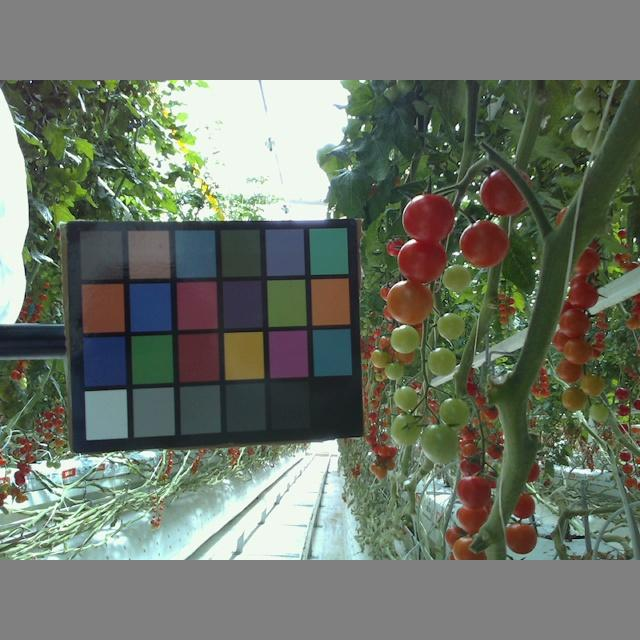green: (421, 423, 459, 463), (390, 409, 425, 444), (425, 343, 456, 378), (437, 397, 470, 428), (389, 325, 422, 353), (437, 313, 466, 342), (390, 385, 421, 412), (441, 264, 472, 290), (589, 403, 612, 422)
pink: (480, 165, 535, 218), (456, 220, 511, 268), (401, 195, 455, 243), (395, 237, 449, 283), (386, 282, 435, 322), (505, 519, 544, 554), (452, 502, 492, 534), (458, 475, 496, 508), (450, 535, 490, 560), (558, 309, 590, 338), (562, 339, 595, 366), (567, 280, 597, 309), (556, 355, 583, 385), (581, 371, 607, 398), (563, 386, 587, 412), (511, 495, 536, 516)
